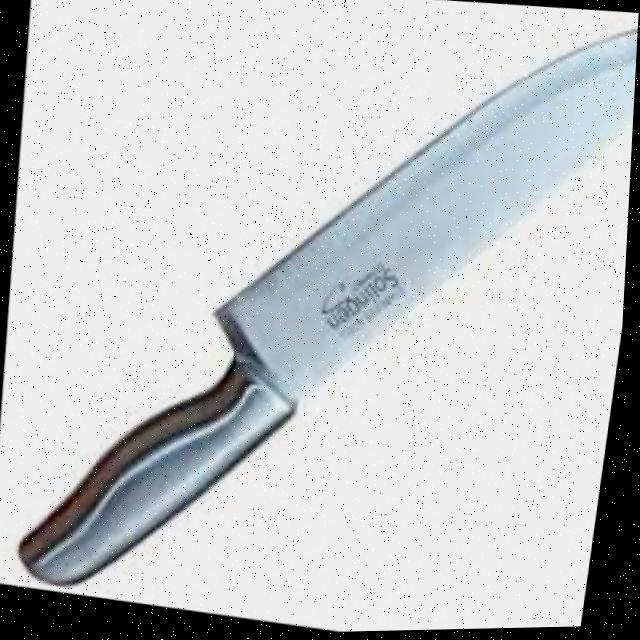knife: (15, 0, 640, 636)
